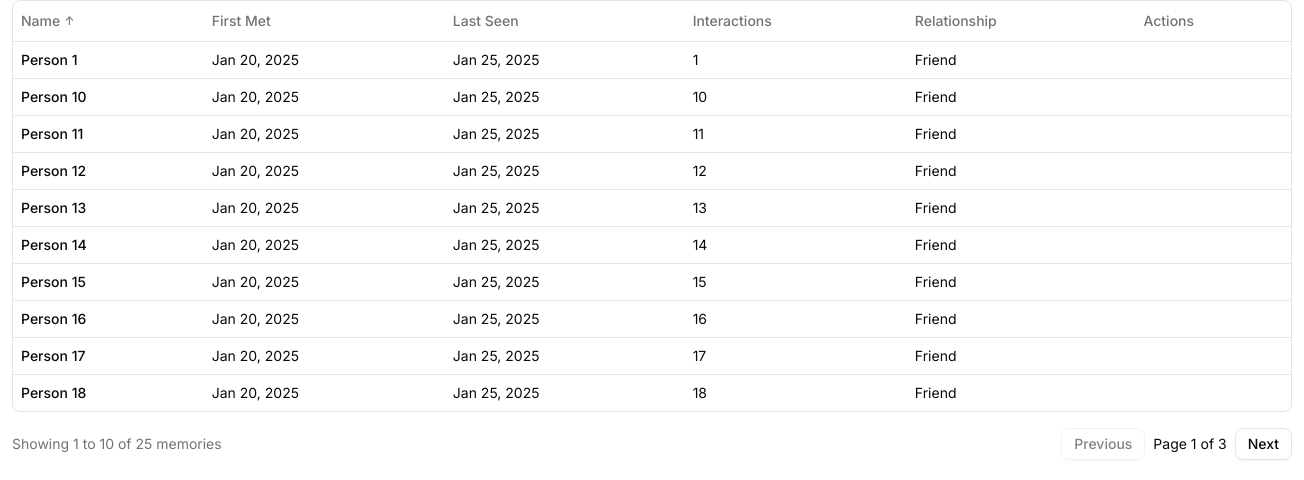
Test: Memory Table › pagination › should navigate to next page
What coordinates should you click on to do the following:
click the button "Next"
I would click on:
 (1263, 444)
Its box is 1235,428 -> 1292,460.
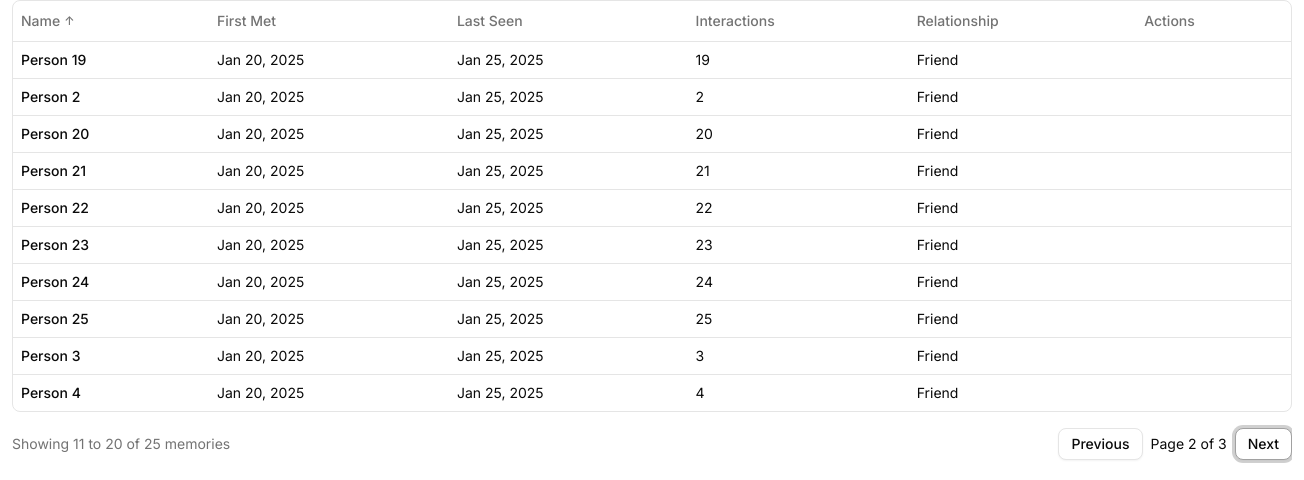
Expected: the text "Page 2 of 3" is shown, 1150,434 -> 1227,454
